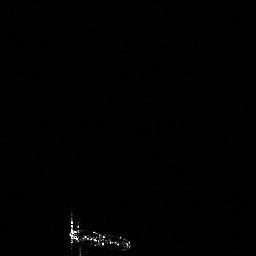ship: (69, 227, 131, 249)
